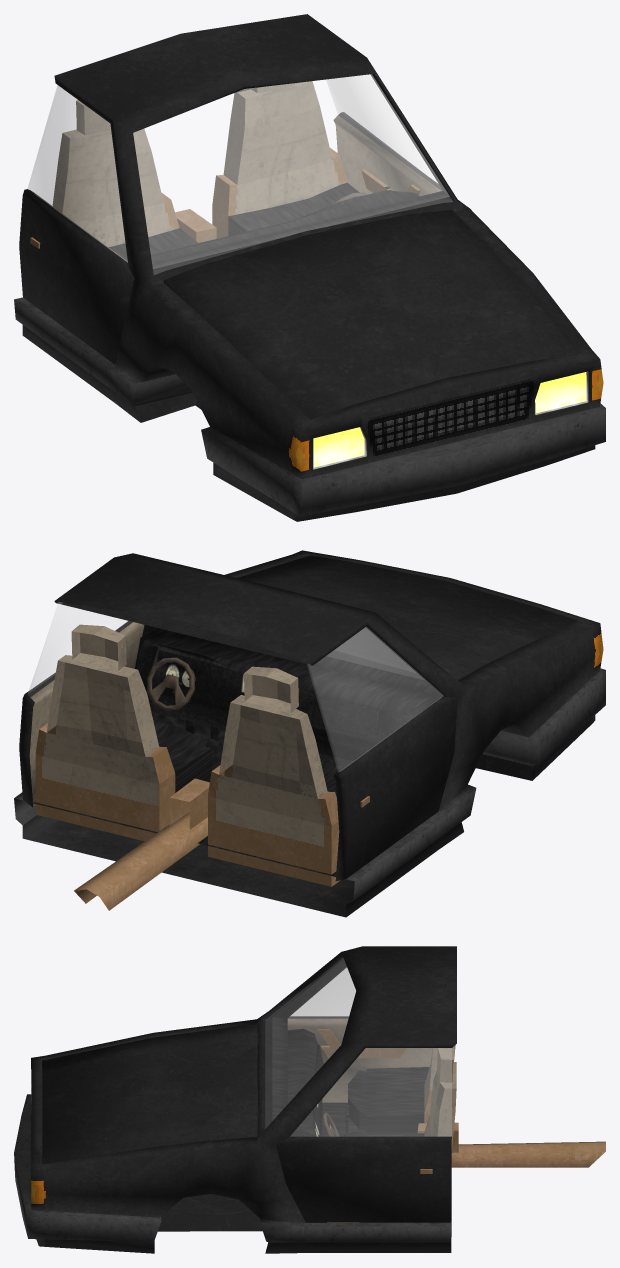
The model's file is cockpit.glb.
3 views of the same model, one above another, from view 1: azimuth 30°, elevation 25°; view 2: azimuth 150°, elevation 25°; view 3: azimuth 270°, elevation 25° (orthographic). The views are drawn at different scales.
Visible parts, largest first — view 1: Car_Base, car_hood, R_Door_Front, L_Door_Front; view 2: Car_Base, R_Door_Front, car_hood, L_Door_Front, Steering_wheel; view 3: Car_Base, L_Door_Front, car_hood, R_Door_Front.
Boxes of the visible parts, x1,y1,x2,y2 form: Car_Base: [14, 14, 605, 521]; car_hood: [163, 210, 577, 419]; R_Door_Front: [19, 85, 134, 364]; L_Door_Front: [326, 74, 442, 196]; Car_Base: [14, 550, 605, 917]; R_Door_Front: [307, 627, 457, 881]; car_hood: [237, 555, 577, 680]; L_Door_Front: [19, 602, 144, 807]; Steering_wheel: [146, 657, 195, 710]; Car_Base: [14, 946, 605, 1253]; L_Door_Front: [276, 1048, 451, 1222]; car_hood: [42, 1024, 258, 1164]; R_Door_Front: [287, 968, 432, 1102].
Size of the model in its own units: 1.71 by 1.26 by 3.26.
Materials: 3 (2 with a texture image).
